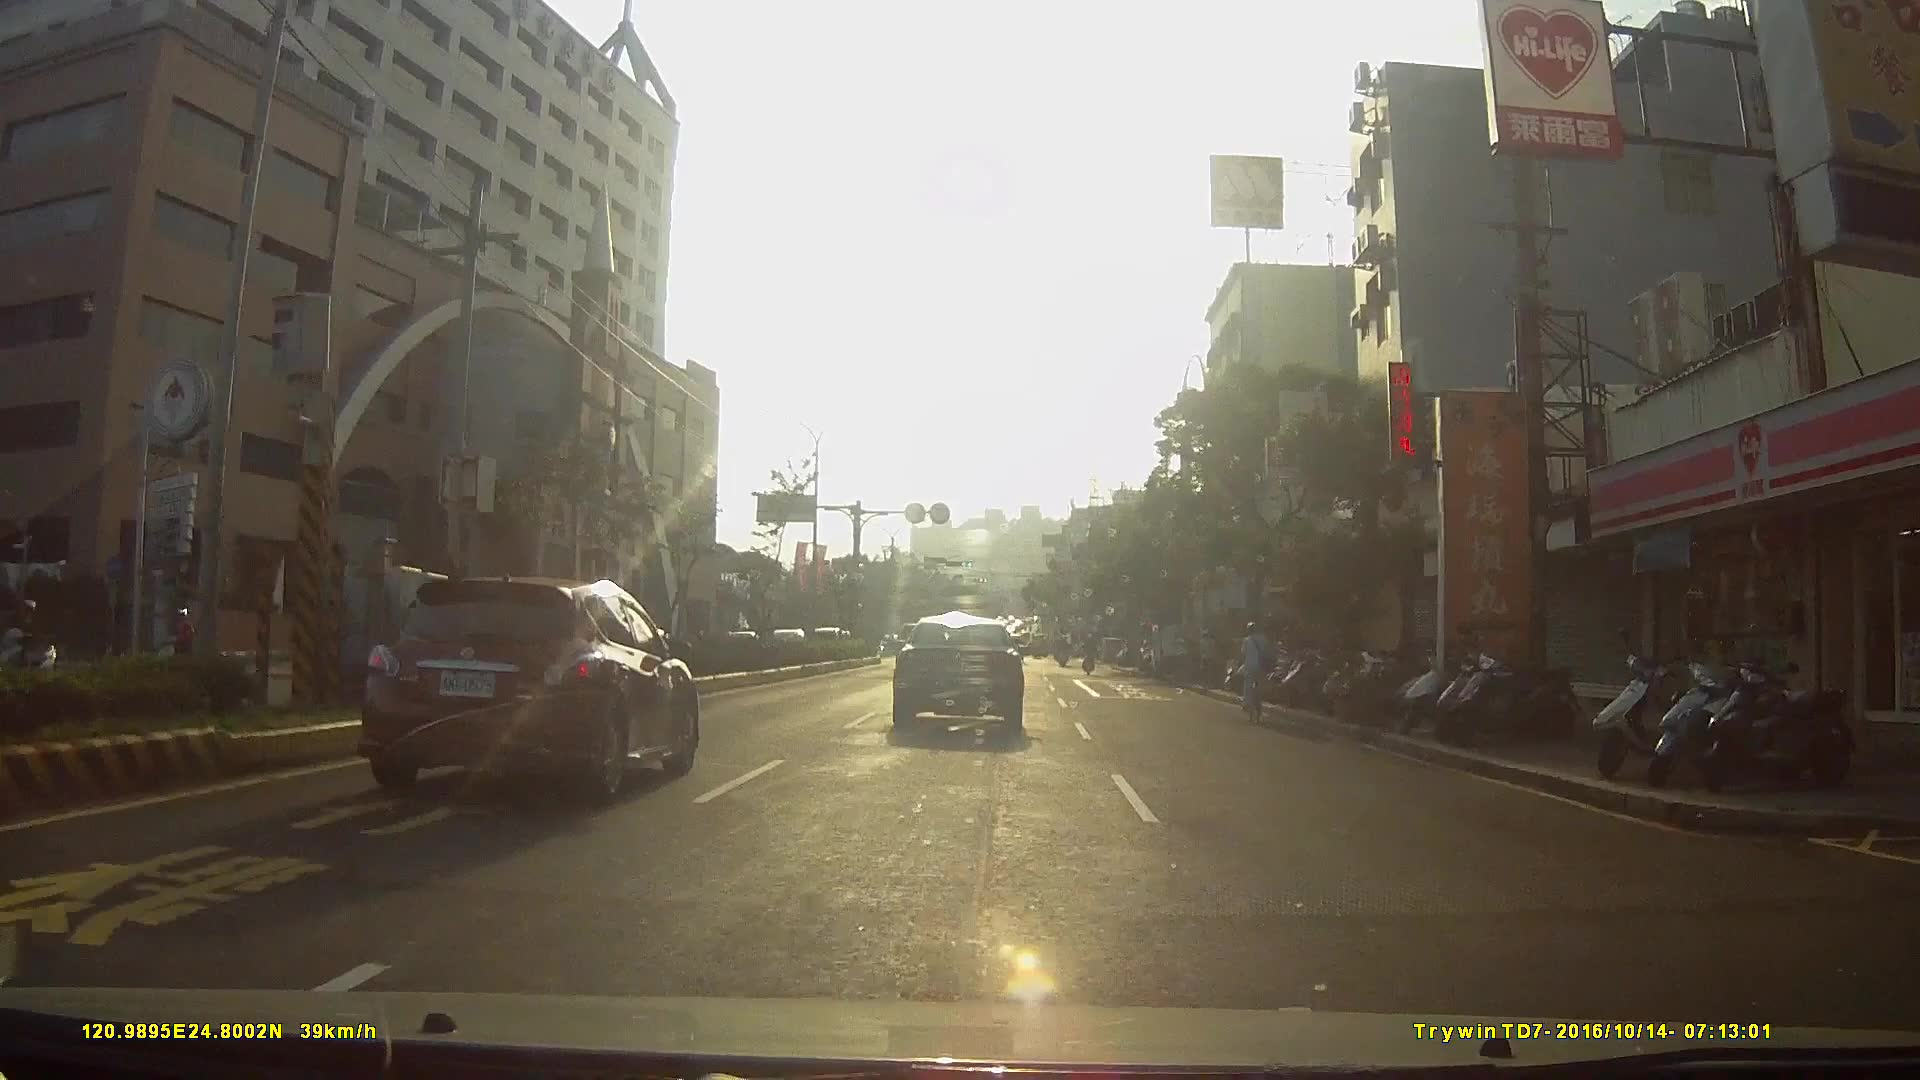rider: (1, 598, 58, 709), (152, 606, 215, 684), (1236, 621, 1277, 724)
vehicle: (358, 572, 714, 807), (887, 615, 1041, 749), (1147, 619, 1212, 682), (763, 607, 822, 662)
